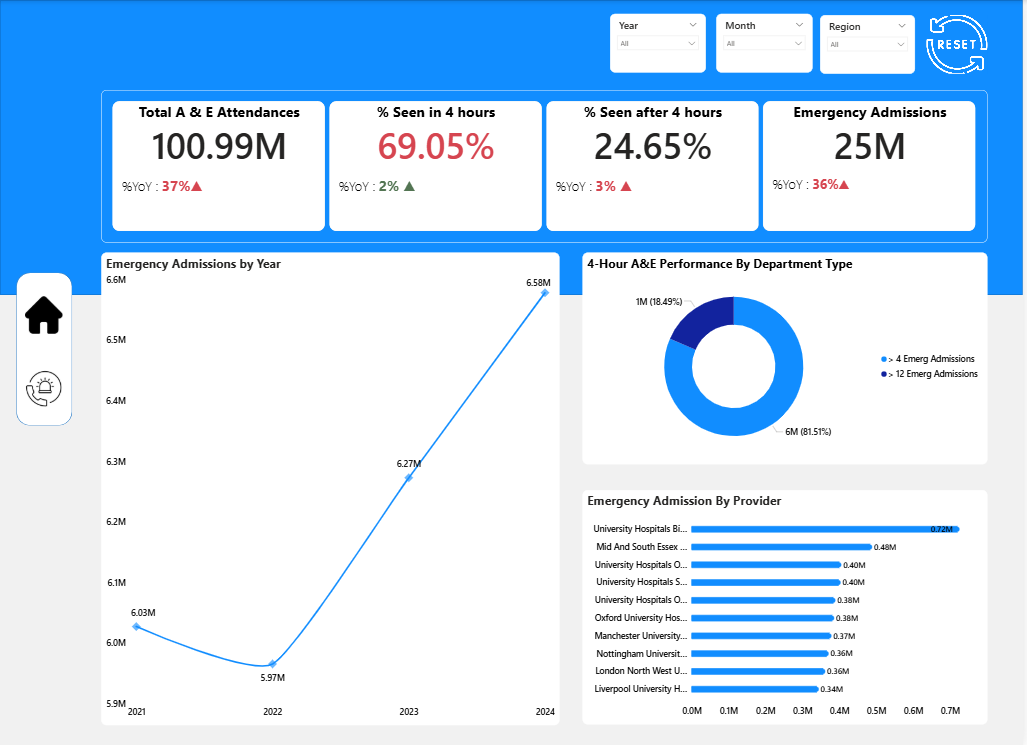

Layout of this report page (visuals, bound fields, positions):
{"tool":"powerbi","page":{"name":"Emergency","canvas":[1920,1400],"ordinal":1},"visuals":[{"type":"shape","box":[0,0,1918.9,553.6],"z":0},{"type":"slicer","fields":{"Values":["DateTable.Month"]},"box":[1343.5,25.9,180.6,110],"z":1000},{"type":"slicer","fields":{"Values":["Sheet1 (2).Region"]},"box":[1540,27,178.3,110],"z":2000},{"type":"slicer","fields":{"Values":["DateTable.Year"]},"box":[1144.1,25.9,180,110],"z":3000},{"type":"cardVisual","fields":{"Data":["Dax Measure.Total A & E Attendances","Dax Measure.% Seen in 4 hours","Dax Measure.% Seen after 4 hours","Emergency Ad Measures.Emergency Admissions"]},"box":[190,168,1663,286],"z":4000},{"type":"lineChart","fields":{"Y":["Emergency Ad Measures.Emergency Admissions"],"Category":["DateTable.Year"]},"box":[190,475,860,887.5],"z":5000},{"type":"donutChart","title":"4-Hour A&E Performance By Department Type","fields":{"Y":["Emergency Ad Measures.> 4 Emerg Admissions","Emergency Ad Measures.> 12 Emerg Admissions"]},"box":[1092.5,475,760,397.5],"z":8000},{"type":"clusteredBarChart","title":"Emergency Admission By Provider","fields":{"Category":["Sheet1 (2).Provider"],"Y":["Emergency Ad Measures.Emergency Admissions"]},"box":[1092.5,920,760,440],"z":9000},{"type":"actionButton","box":[1738.3,28.2,114.9,110.3],"z":10000},{"type":"shape","box":[30,512.5,105,287.5],"z":11000},{"type":"actionButton","box":[47.5,555,70,70],"z":12000},{"type":"actionButton","box":[47.5,695,70,70],"z":13000}]}

Visuals, with their boxes in screenshot pixels (x1, y1, x2, y2), scaled from the page's 1920x1400 canvas onto the 1027x745 screenshot:
shape: locate(0, 0, 1026, 295)
slicer - DateTable.Month: locate(719, 14, 815, 72)
slicer - Sheet1 (2).Region: locate(824, 14, 919, 73)
slicer - DateTable.Year: locate(612, 14, 708, 72)
cardVisual - Dax Measure.Total A & E Attendances x Dax Measure.% Seen in 4 hours: locate(102, 89, 991, 242)
lineChart - Emergency Ad Measures.Emergency Admissions x DateTable.Year: locate(102, 253, 562, 725)
"4-Hour A&E Performance By Department Type" donutChart: locate(584, 253, 991, 464)
"Emergency Admission By Provider" clusteredBarChart: locate(584, 490, 991, 724)
actionButton: locate(930, 15, 991, 74)
shape: locate(16, 273, 72, 426)
actionButton: locate(25, 295, 63, 333)
actionButton: locate(25, 370, 63, 407)
